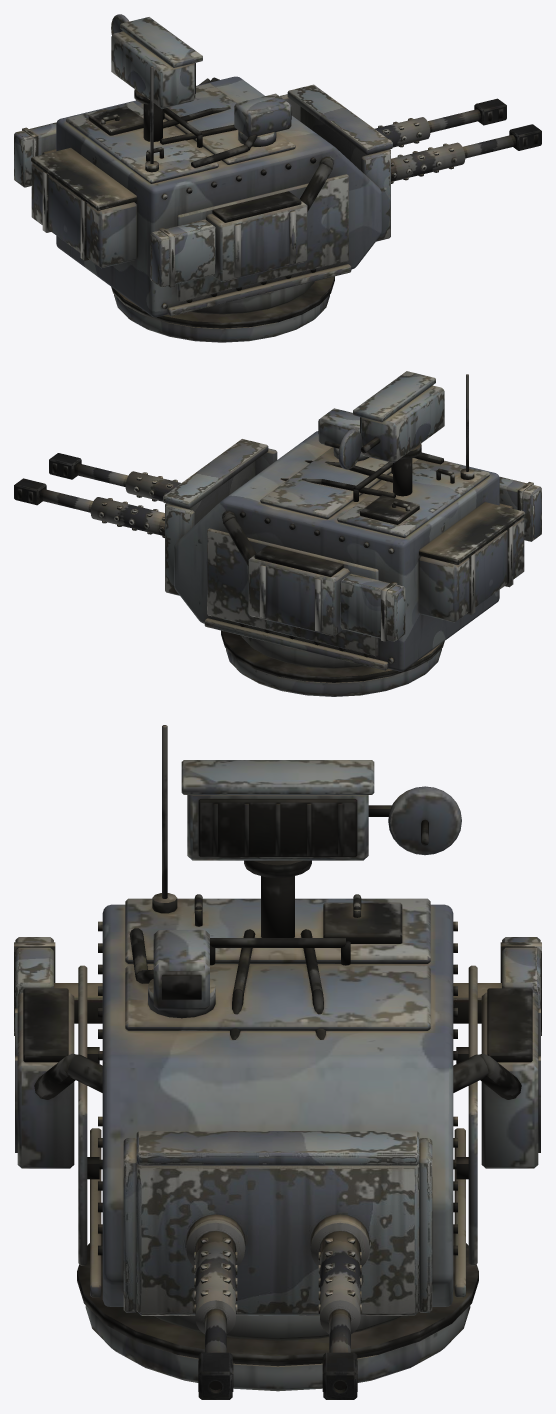
File: turret_grach_evo_sea_fog.glb
3 renders of one model, top to bottom at view 1: azimuth 30°, elevation 25°; view 2: azimuth 150°, elevation 25°; view 3: azimuth 270°, elevation 25°, orthographic. The views are drawn at different scales.
Parts seen in each view (by area): view 1: turret_light_evo, guns, pods; view 2: turret_light_evo, guns, pods; view 3: turret_light_evo, guns, pods.
Part boxes in pixels (box(x1,y1,x2,y2)): turret_light_evo: box(31, 14, 381, 342); guns: box(280, 84, 541, 241); pods: box(14, 122, 215, 287); turret_light_evo: box(174, 371, 524, 696); guns: box(14, 439, 277, 595); pods: box(340, 476, 541, 641); turret_light_evo: box(15, 725, 540, 1391); guns: box(123, 1131, 432, 1399); pods: box(14, 937, 541, 1035).
Size of the model in its own units: 1.86 by 1.09 by 1.05.
Materials: 3 (3 with a texture image).
